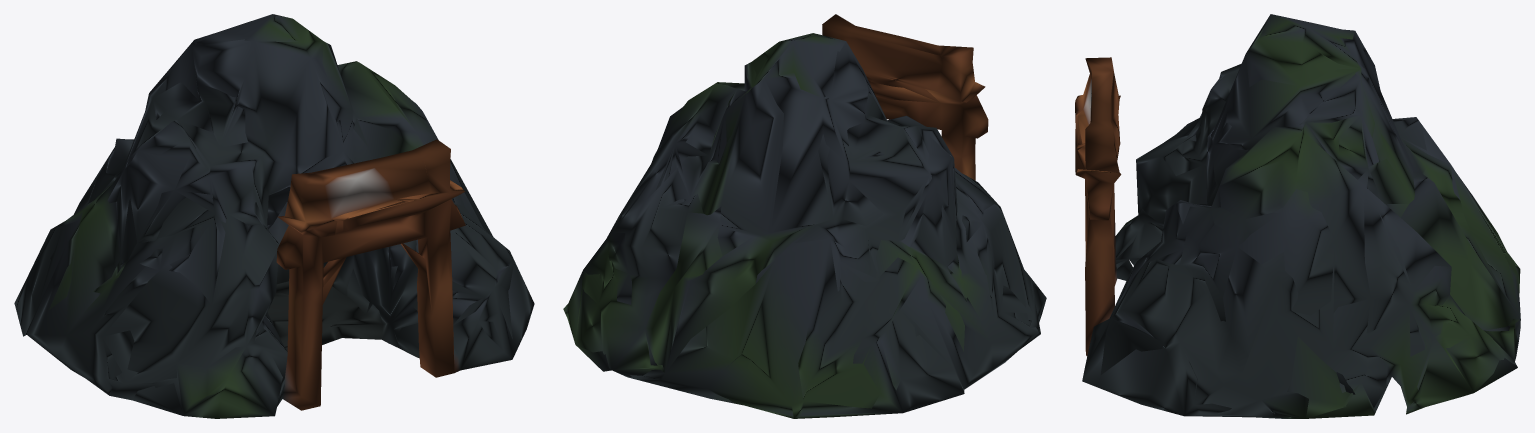
Rendered from gen3d-abandoned-mine-entrance-lod0.glb.
3 renders of one model, left to right at view 1: azimuth 30°, elevation 25°; view 2: azimuth 150°, elevation 25°; view 3: azimuth 270°, elevation 25°, orthographic. The views are drawn at different scales.
Parts seen in each view (by area): view 1: part_0; view 2: part_0; view 3: part_0.
Boxes of the visible parts, x1=… form: part_0: x1=14, y1=14, x2=534, y2=418; part_0: x1=563, y1=14, x2=1046, y2=418; part_0: x1=1075, y1=14, x2=1520, y2=418.
Bounding box in the file's own units: 1.46 × 0.9875 × 1.35.
